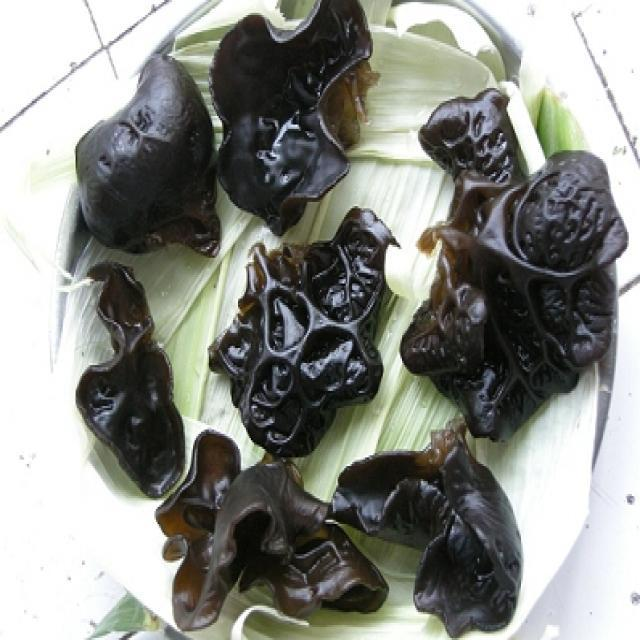Auricularia auricula: (401, 85, 627, 443), (212, 210, 400, 459), (156, 433, 388, 630), (331, 420, 524, 637), (209, 0, 372, 234), (75, 56, 223, 257), (81, 267, 185, 497)
